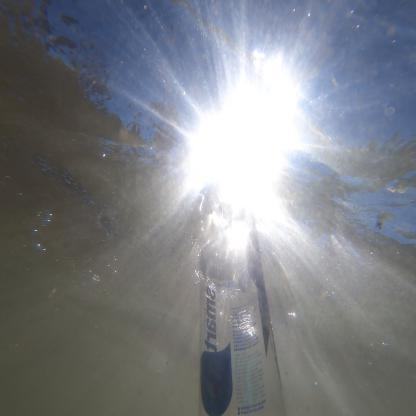Rác: (188, 182, 282, 416)
